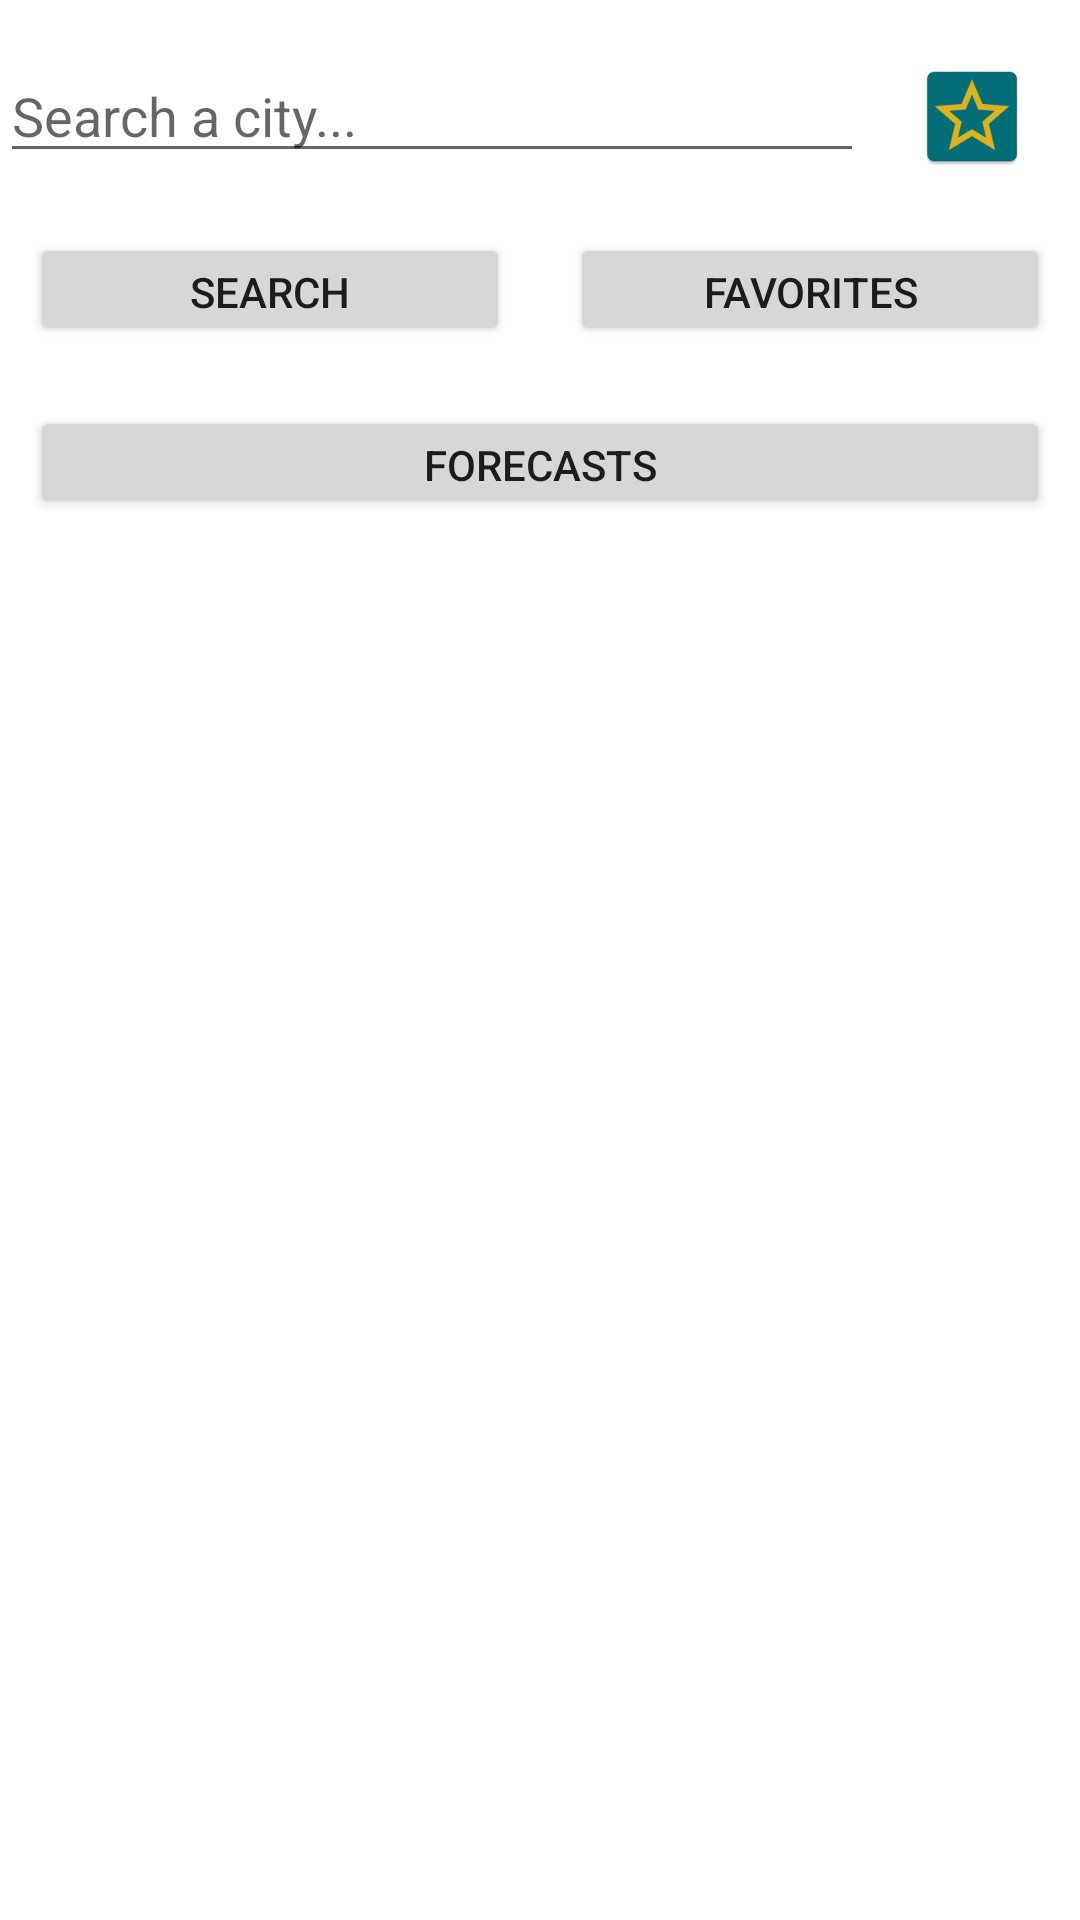

Point at icon controls on the screen. Image size 1080*1920, points as [x,y].
star empty: [972,117]
